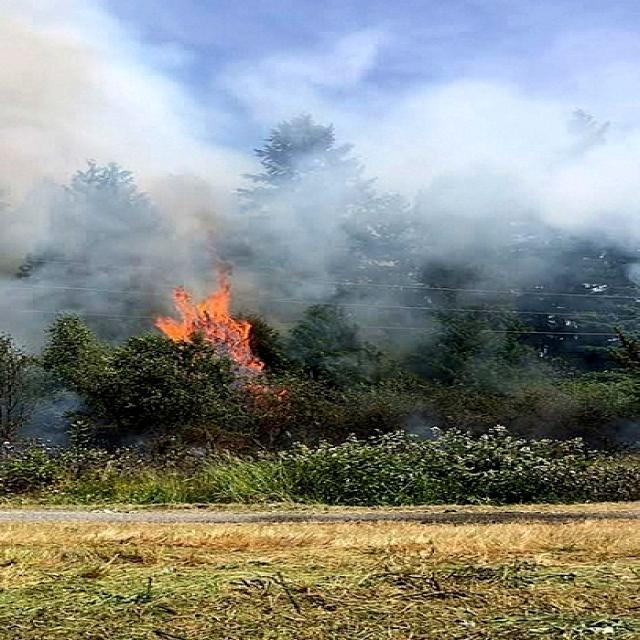Fire: (137, 275, 258, 375)
Smoke: (0, 50, 640, 325)
